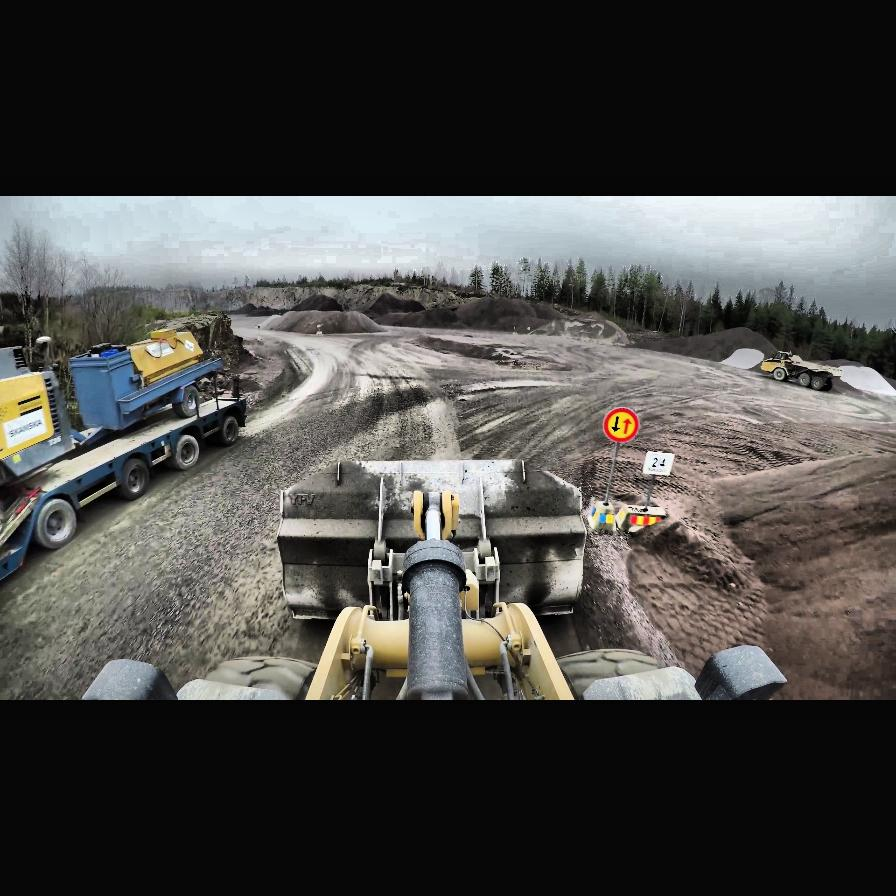anchor: (412, 490, 456, 540)
pile of gravel: (705, 453, 896, 700), (620, 328, 785, 376), (426, 296, 555, 334), (526, 311, 640, 349), (266, 309, 378, 335), (830, 366, 896, 398), (394, 306, 474, 330), (360, 293, 424, 317), (284, 294, 342, 314), (229, 304, 283, 316), (254, 314, 282, 330), (826, 359, 864, 369)
